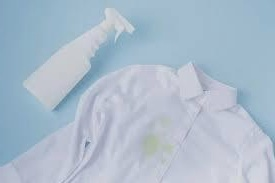oil: (139, 134, 176, 162)
